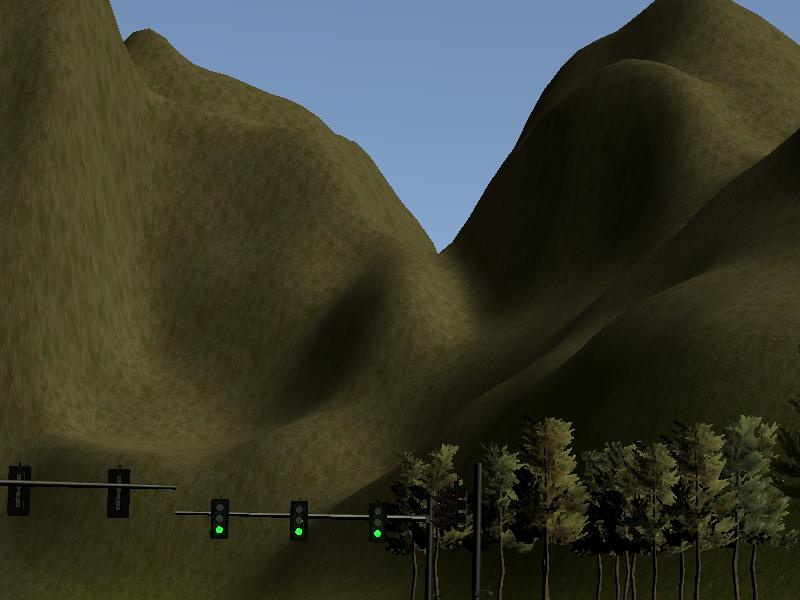green_light: (369, 503, 385, 544), (291, 501, 306, 541), (213, 499, 227, 538)
